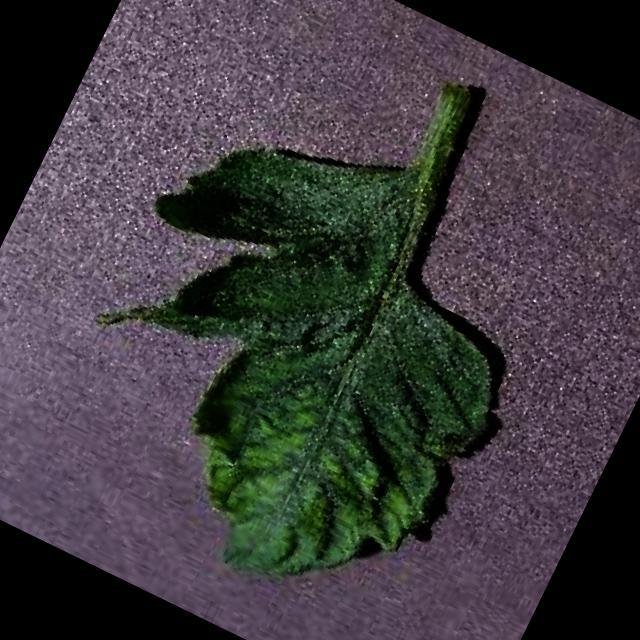Tomato mosaic virus leaf: (20, 80, 577, 640)
